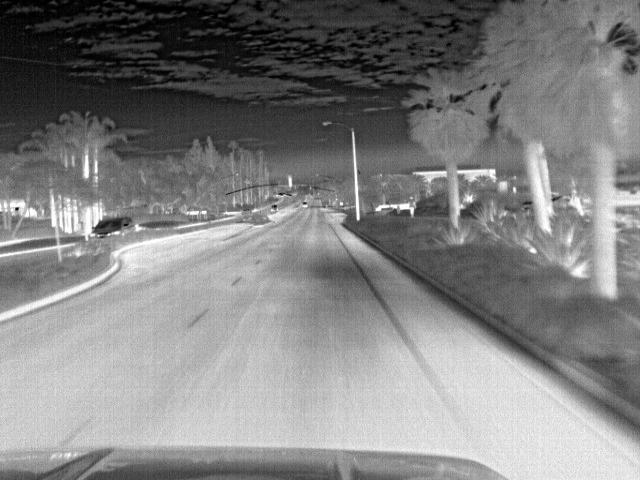car: (85, 215, 132, 241)
person: (407, 193, 418, 217)
